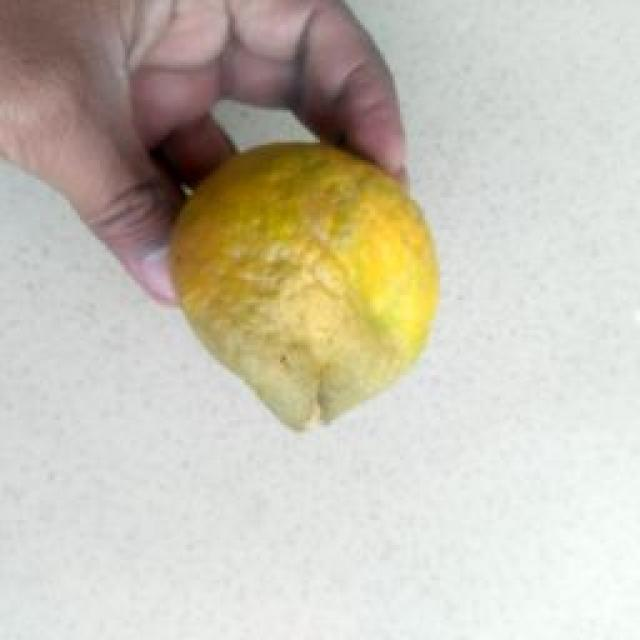Bad_Orange: (171, 144, 439, 428)
